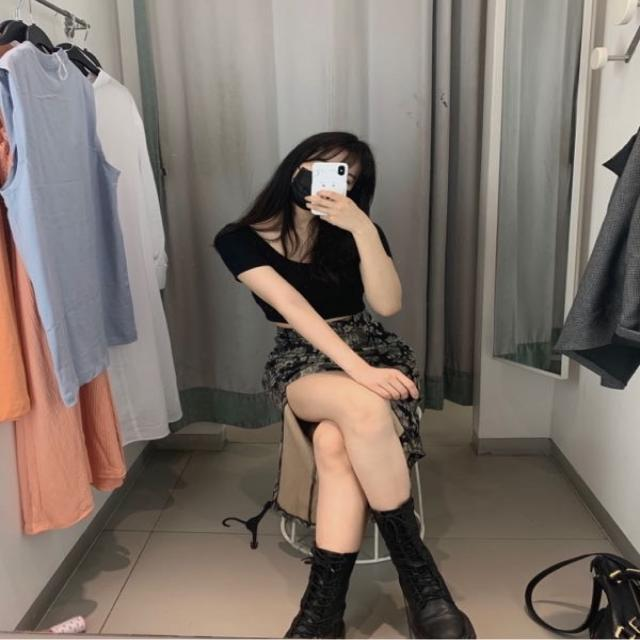shortsleeve: (216, 216, 369, 324)
skirt: (269, 320, 428, 479)
